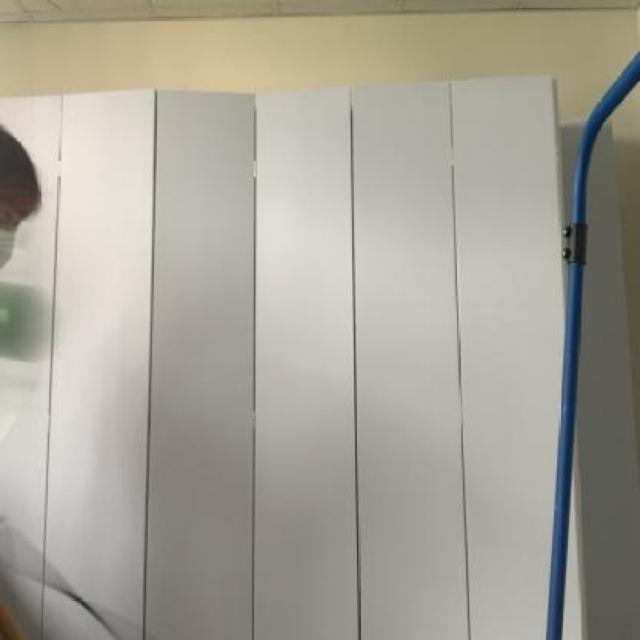baseball: (0, 278, 62, 374)
